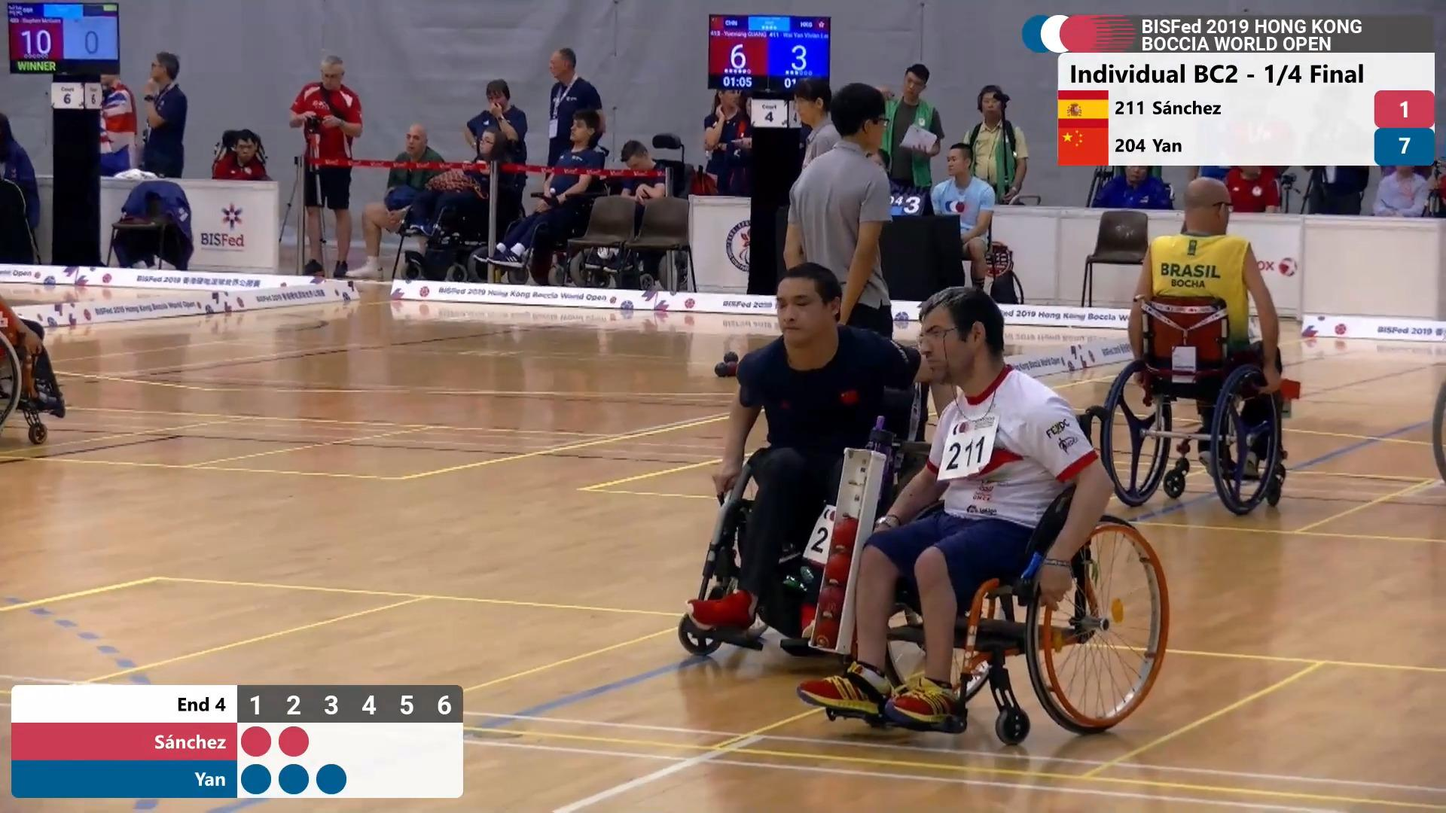blue_ball: (713, 361, 729, 378), (722, 350, 739, 365)
red_ball: (724, 360, 739, 378)
